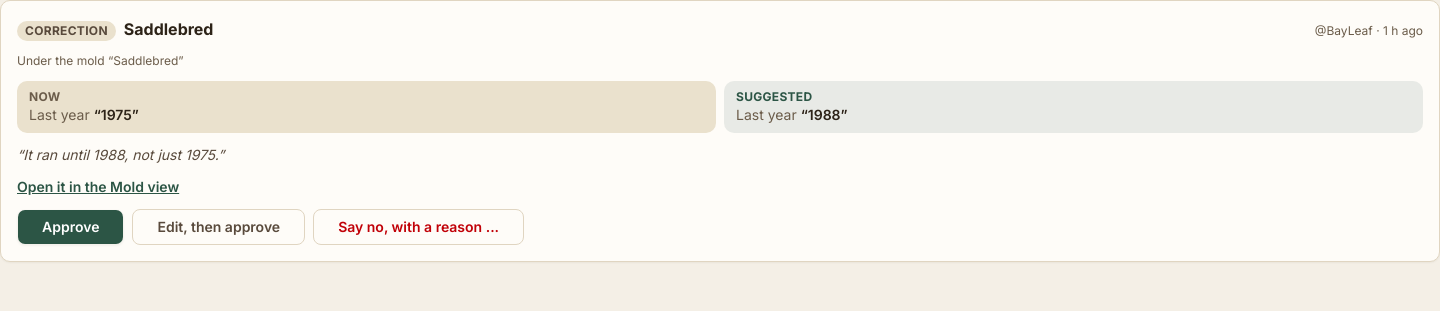
Test case: QueueItemCard › does not open the editor when someone else picked it up, and says who
This screenshot has width=1440, height=311.
Click the button "Edit, then approve".
click(219, 227)  # box [132, 209, 305, 245]
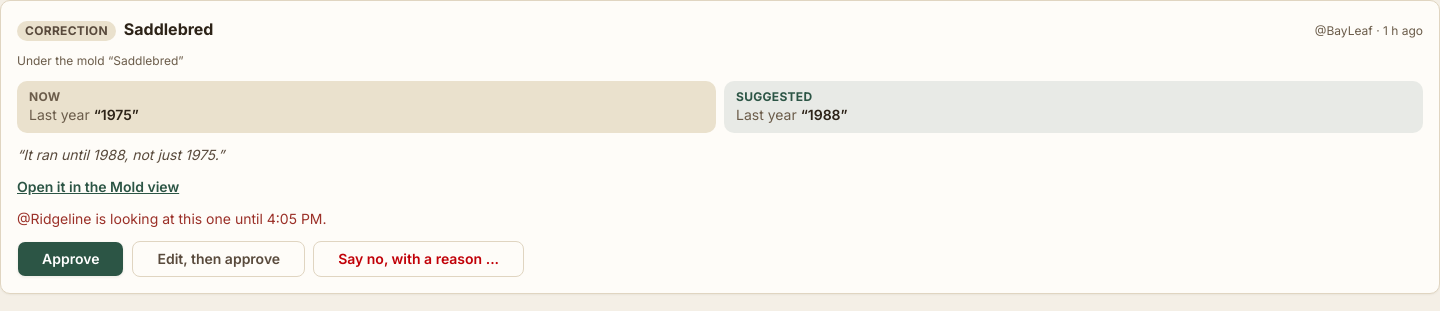
Check: the message shows "@Ridgeline", box [17, 210, 326, 227]
